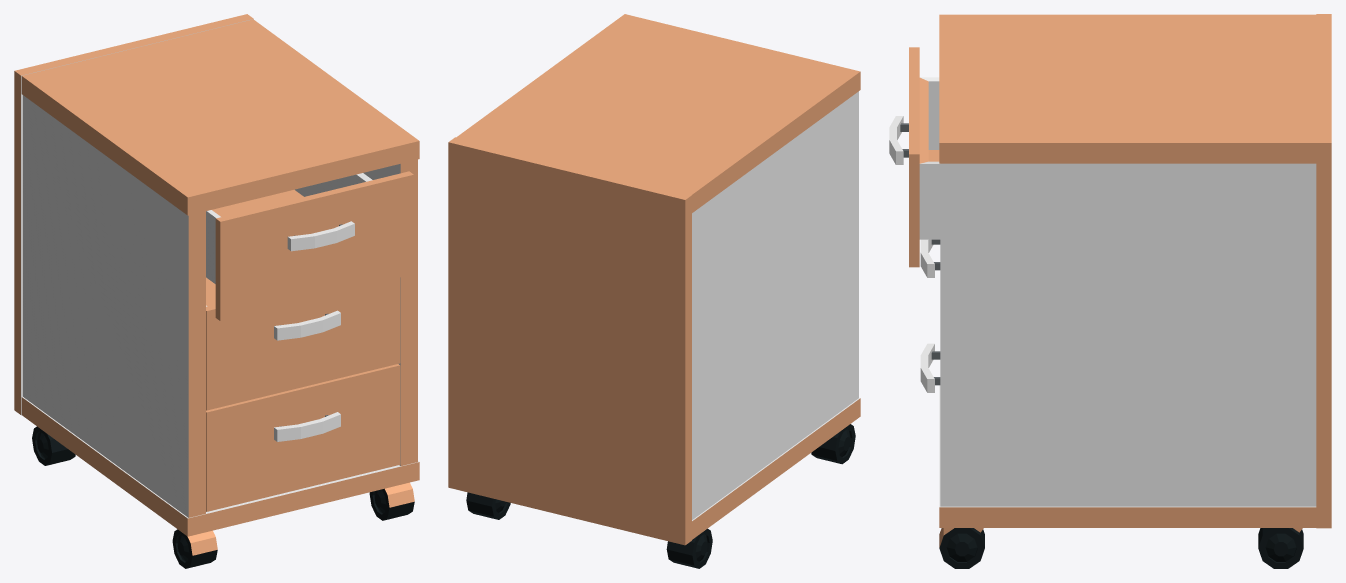
File: drawer.fbx
3 renders of one model, left to right at view 1: azimuth 30°, elevation 25°; view 2: azimuth 150°, elevation 25°; view 3: azimuth 270°, elevation 25°, orthographic. The views are drawn at different scales.
Visible parts, largest first — view 1: Drawer1_C1_01, pasted__pasted__Drawer1_C1_02, Drawer1_C1_02, pasted__Drawer1_C1_02; view 2: Drawer1_C1_01; view 3: Drawer1_C1_01, pasted__pasted__Drawer1_C1_02, Drawer1_C1_02, pasted__Drawer1_C1_02.
Part boxes in pixels (left/top/right/bottom): Drawer1_C1_01: left=14, top=14, right=419, bottom=568; pasted__pasted__Drawer1_C1_02: left=206, top=171, right=413, bottom=321; Drawer1_C1_02: left=206, top=364, right=400, bottom=511; pasted__Drawer1_C1_02: left=206, top=277, right=400, bottom=410; Drawer1_C1_01: left=448, top=14, right=860, bottom=568; Drawer1_C1_01: left=939, top=14, right=1331, bottom=568; pasted__pasted__Drawer1_C1_02: left=889, top=47, right=940, bottom=267; Drawer1_C1_02: left=920, top=343, right=940, bottom=392; pasted__Drawer1_C1_02: left=920, top=239, right=940, bottom=277.
Size of the model in its own units: 40.2 by 62.34 by 58.26.
